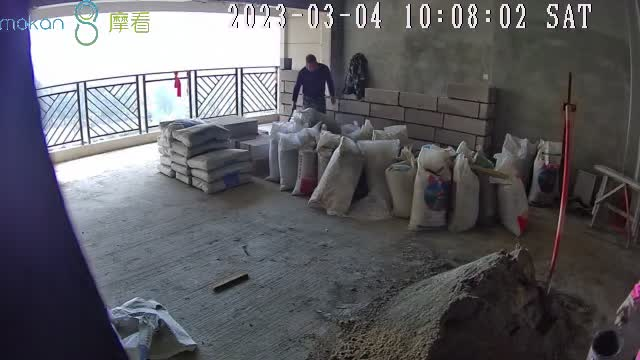people: (291, 54, 337, 113)
window: (31, 14, 282, 146)
